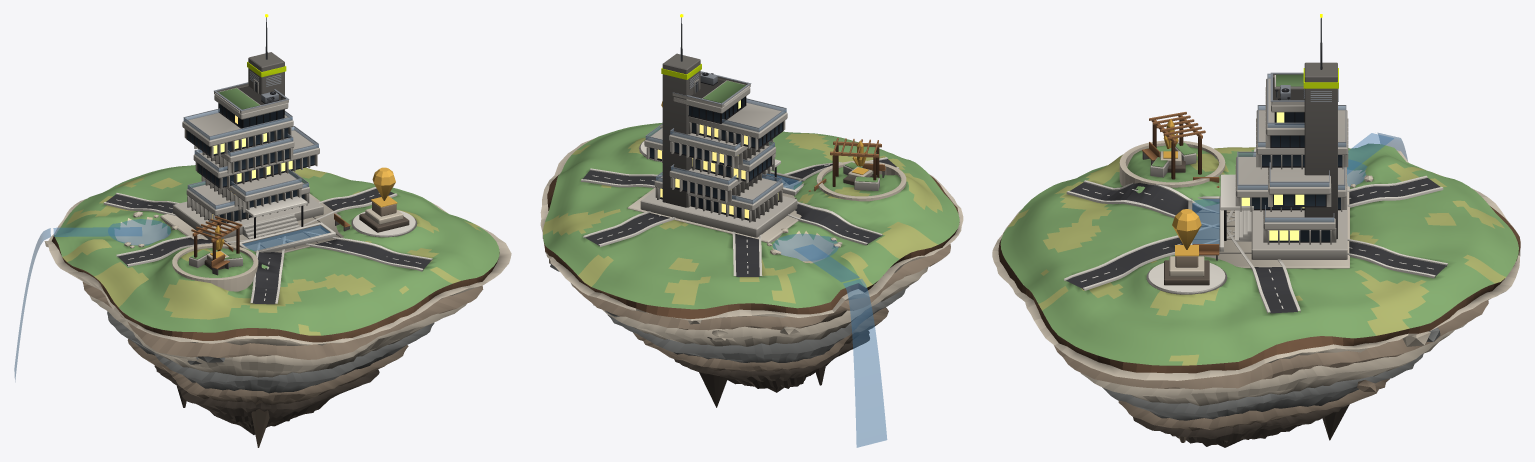
File: about.glb
The picture shows the model from 3 angles, left to right: view 1: azimuth 30°, elevation 25°; view 2: azimuth 150°, elevation 25°; view 3: azimuth 270°, elevation 25°; orthographic projection. The views are drawn at different scales.
Visible parts, largest first — view 1: terrain, foundation, buildings, props, water_pond0, water_channel0, water_reflect, waterfall_0, anim_spin_monument; view 2: terrain, foundation, buildings, props, waterfall_0, water_pond0, water_channel0; view 3: terrain, foundation, buildings, props, water_reflect, water_channel0, anim_spin_monument.
Part boxes in pixels (x1,y1,x2,y2): terrain: (54, 165, 499, 335); foundation: (44, 199, 511, 447); buildings: (172, 52, 409, 291); props: (116, 14, 421, 300); water_pond0: (108, 219, 170, 245); water_channel0: (53, 227, 141, 236); water_reflect: (242, 225, 329, 250); waterfall_0: (14, 228, 50, 381); anim_spin_monument: (372, 167, 395, 200); terrain: (543, 122, 959, 309); foundation: (540, 138, 963, 407); buildings: (640, 53, 906, 237); props: (592, 14, 885, 273); waterfall_0: (843, 279, 887, 447); water_pond0: (773, 233, 838, 261); water_channel0: (794, 244, 859, 282); terrain: (1000, 143, 1518, 365); foundation: (992, 150, 1520, 447); buildings: (1119, 62, 1347, 285); props: (1080, 14, 1433, 308); water_reflect: (1192, 199, 1219, 244); water_channel0: (1347, 133, 1393, 174); anim_spin_monument: (1172, 209, 1201, 249).
Size of the model in its own units: 23.12 by 21.35 by 22.02.
